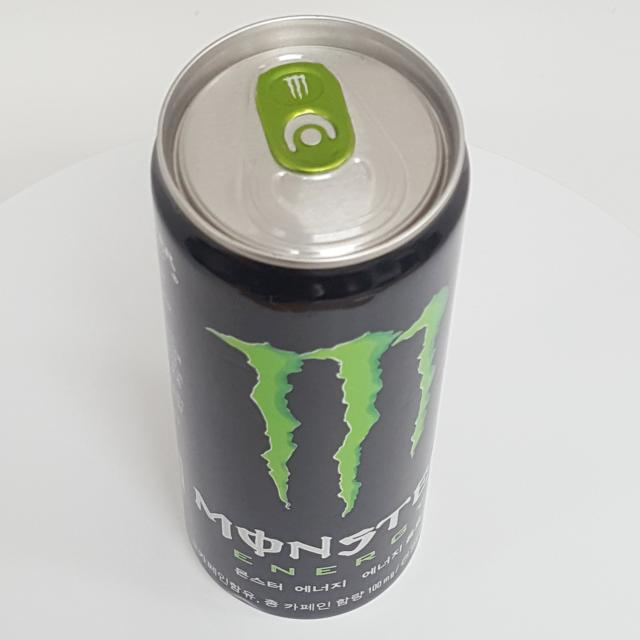--------355ML: (151, 13, 469, 620)
